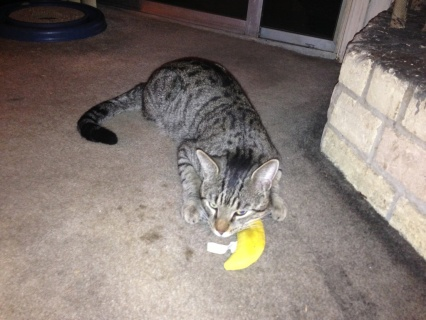Cat: (74, 54, 291, 240)
